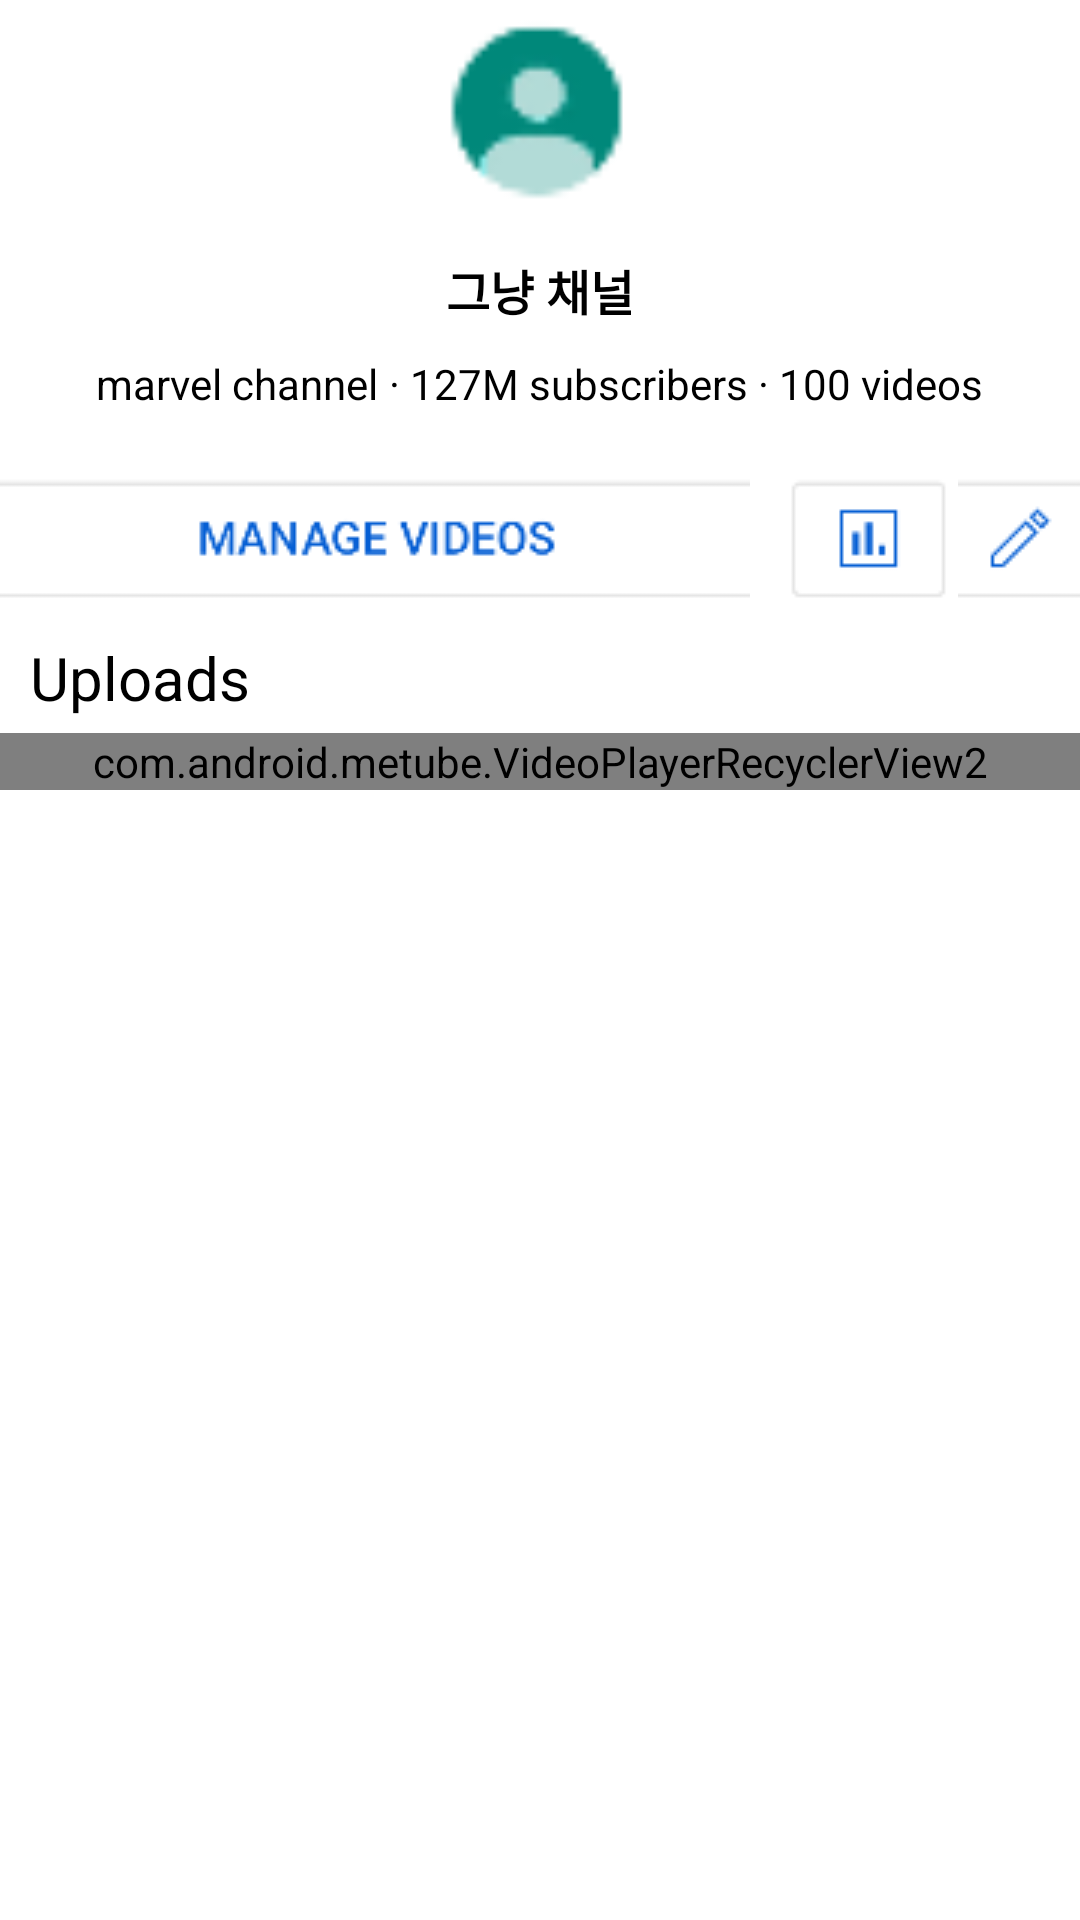

Screen size 1080w x 1920h. Icon name, then its box in pixels as (x1, y1, x2, y2):
channel analytics: (793, 484, 944, 596)
channel edit: (958, 484, 1080, 596)
user: (451, 26, 623, 197)
